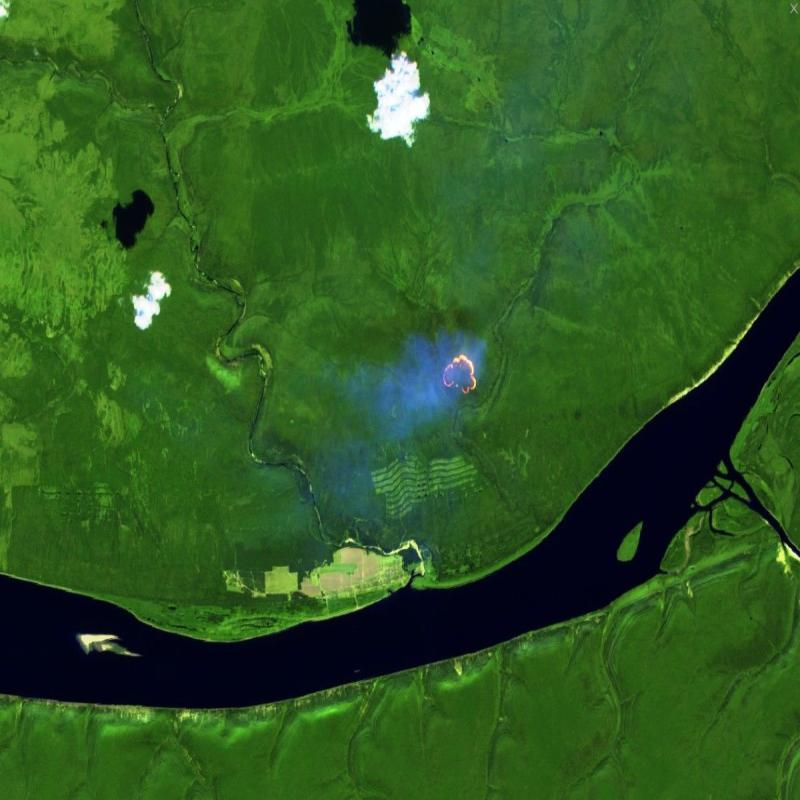fire: (434, 338, 486, 405)
